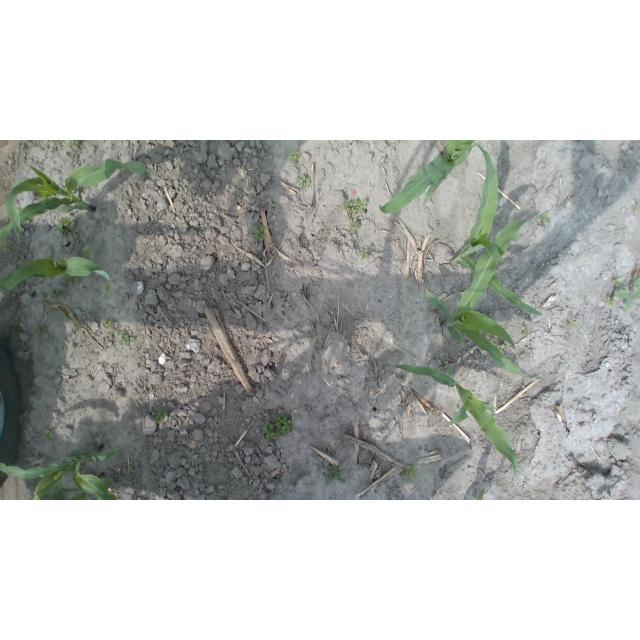Maize: (448, 140, 544, 316), (394, 358, 518, 490), (425, 220, 528, 378), (1, 158, 156, 246), (378, 140, 478, 218), (0, 444, 122, 500), (1, 241, 112, 295), (56, 473, 117, 500), (476, 488, 486, 501)
Weeds: (613, 277, 640, 311), (344, 197, 369, 219), (323, 464, 346, 485), (275, 413, 293, 436), (261, 422, 279, 444), (58, 216, 77, 235), (251, 223, 267, 241), (120, 329, 136, 345), (536, 212, 551, 229), (34, 322, 48, 339), (400, 463, 416, 477), (297, 175, 311, 190), (153, 411, 167, 425), (49, 288, 63, 301), (288, 150, 301, 163), (568, 317, 581, 329), (350, 219, 361, 233), (48, 492, 67, 500), (63, 274, 75, 285), (44, 430, 55, 441), (103, 316, 113, 328), (128, 460, 137, 473), (360, 249, 370, 260), (608, 296, 617, 308), (4, 242, 13, 253), (496, 344, 504, 356), (68, 141, 80, 148), (520, 325, 528, 335), (632, 204, 640, 212), (143, 388, 148, 395)
